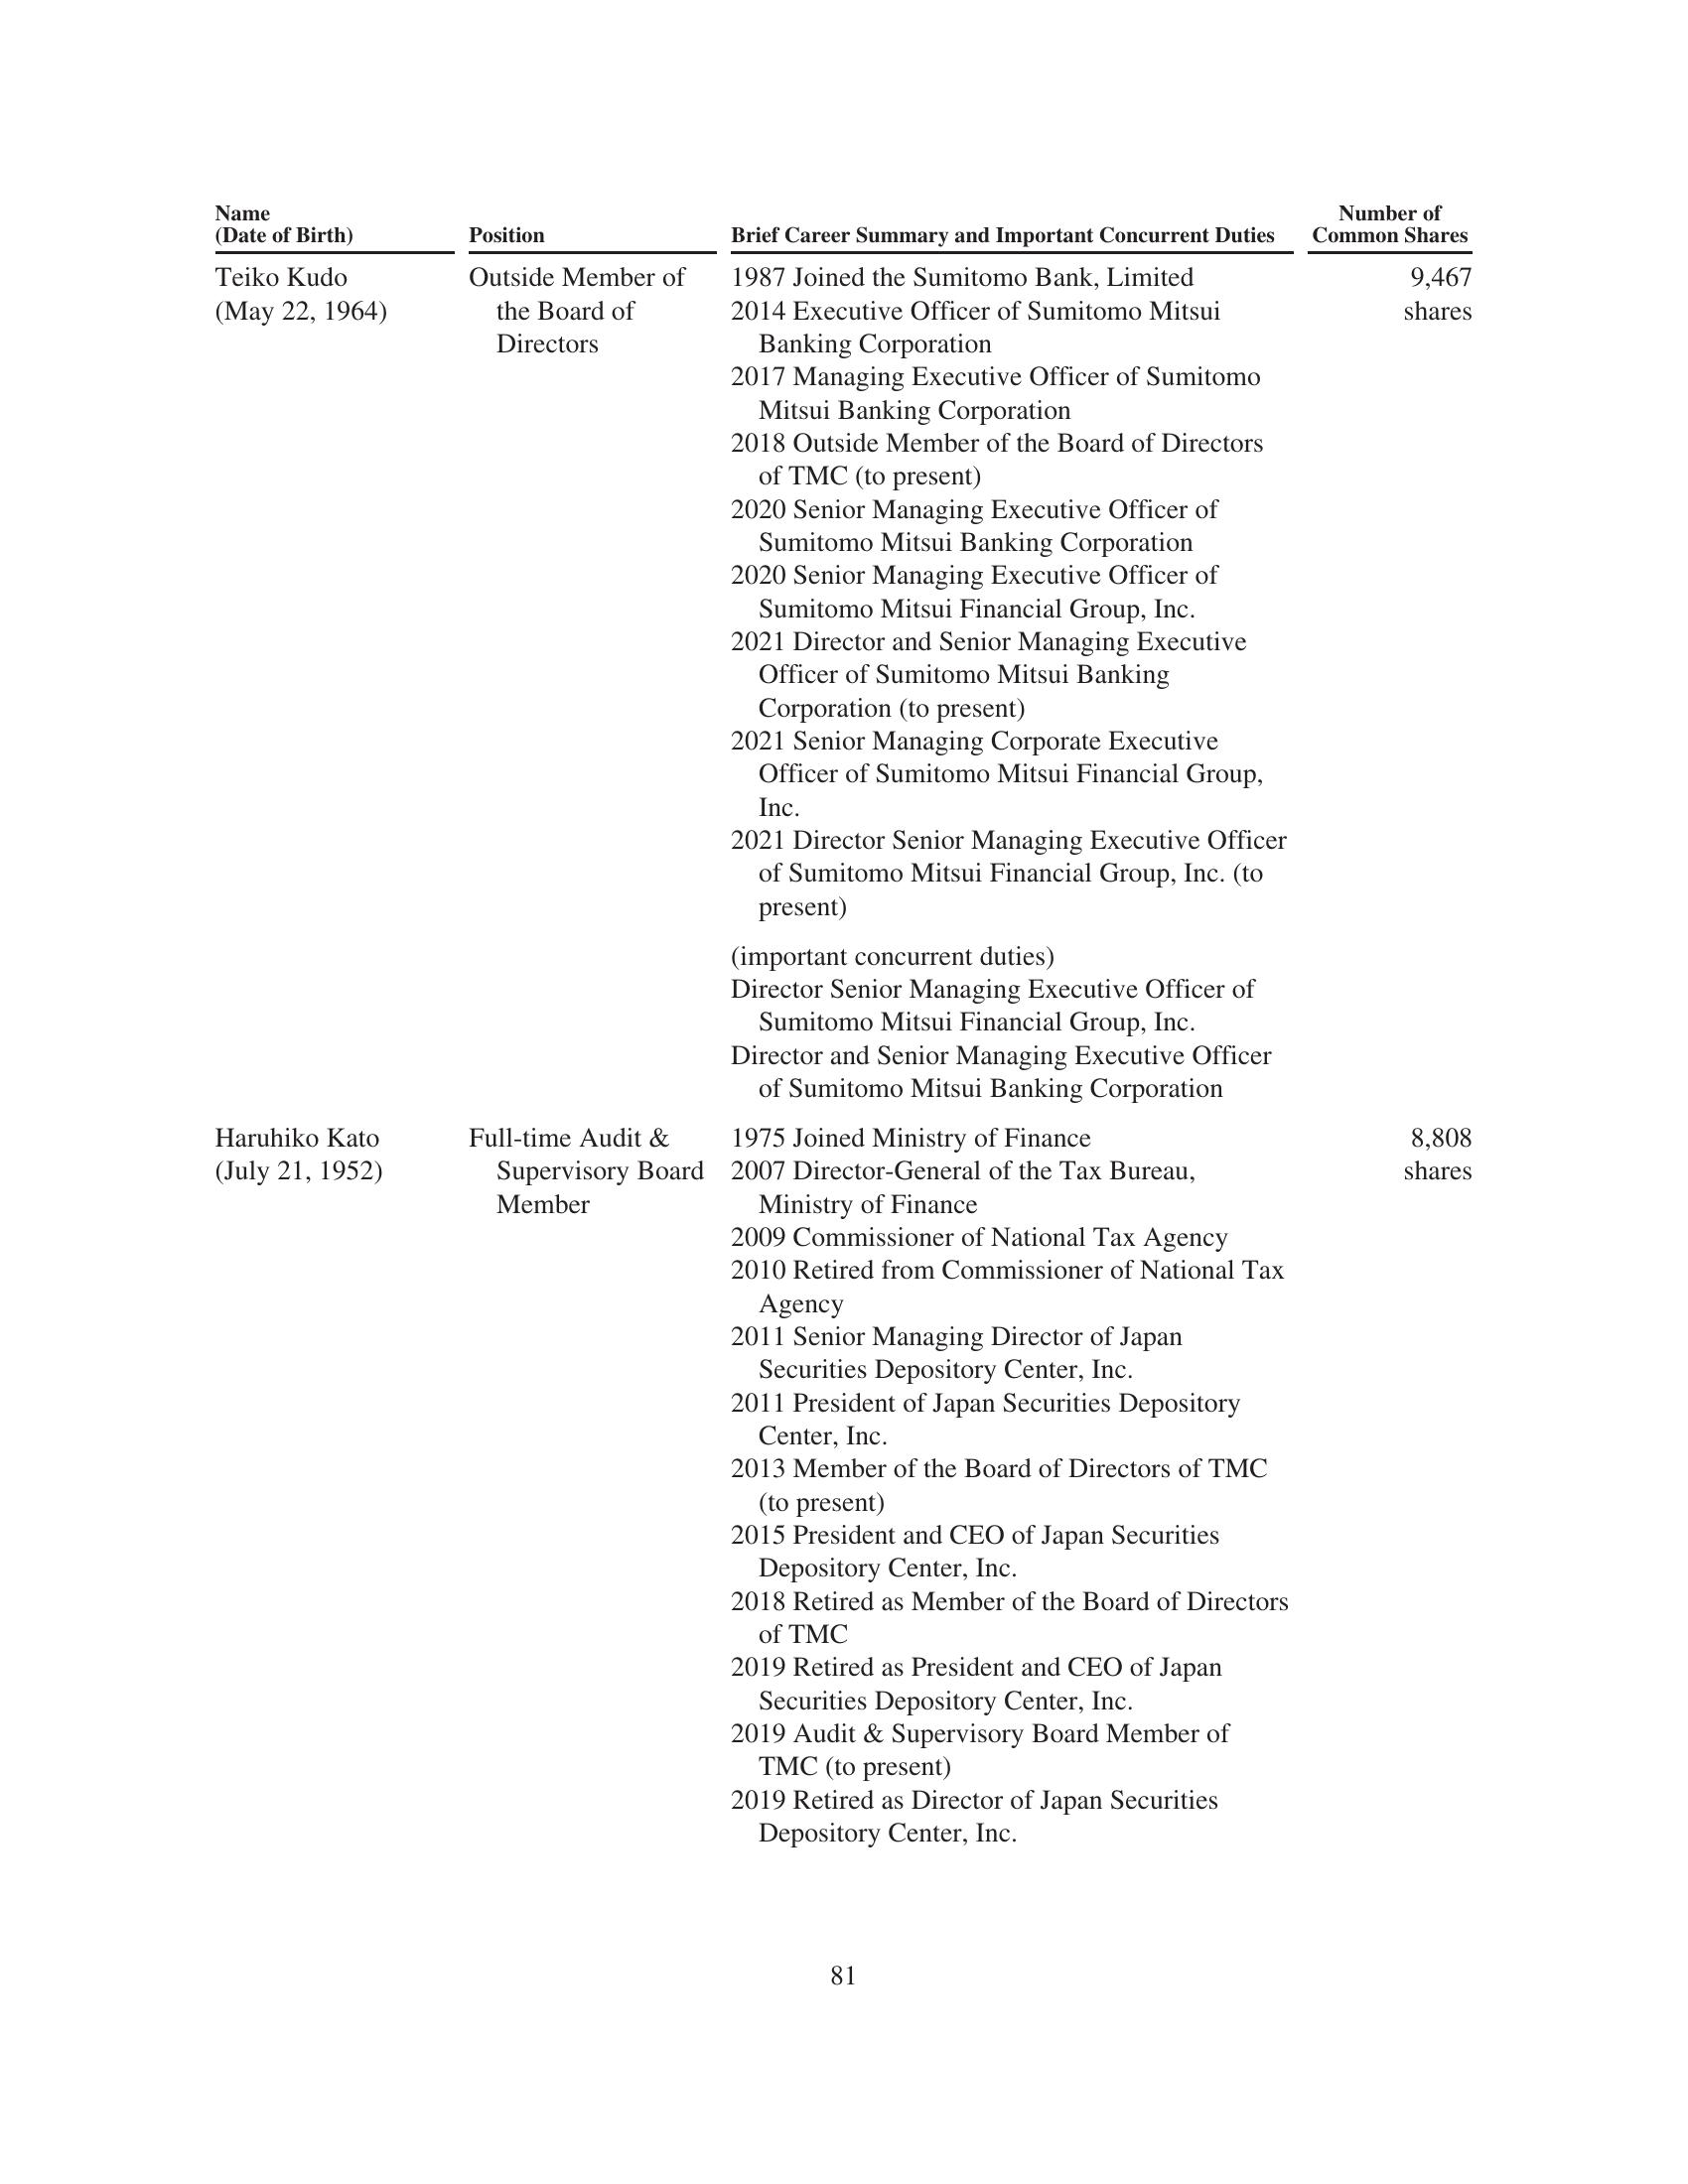Footer: (0, 1938, 1688, 2184)
Header: (0, 0, 1688, 191)
Table: (133, 188, 1551, 1886)
